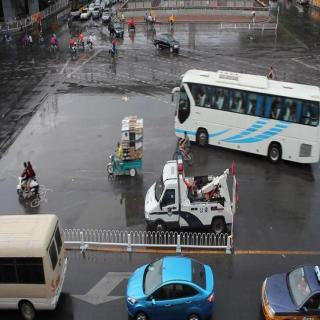BigCar: (169, 61, 320, 169), (0, 212, 70, 320), (65, 0, 91, 17)
Car: (138, 160, 239, 238), (124, 255, 215, 319), (255, 269, 320, 319), (153, 27, 183, 56), (108, 20, 126, 40), (101, 10, 112, 24), (92, 6, 101, 22), (80, 9, 90, 22)
